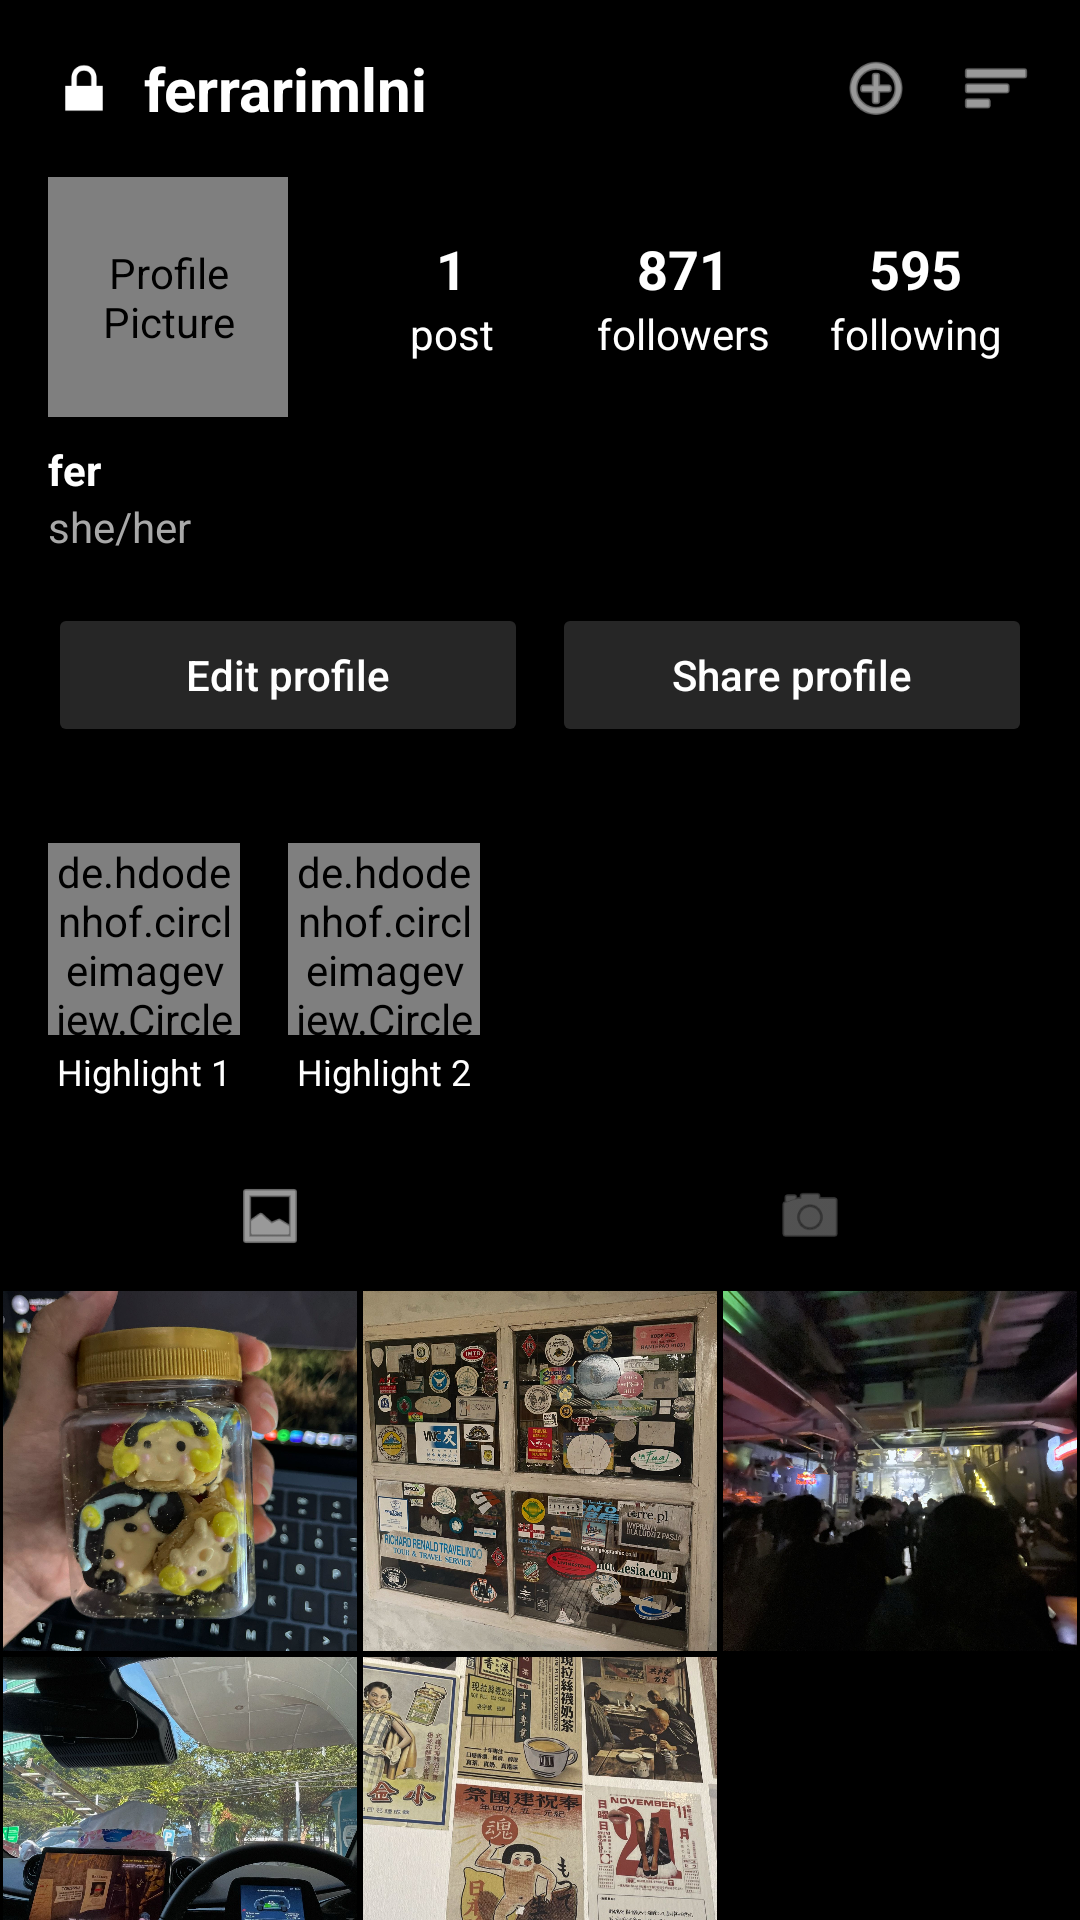

Icons on this 1080×1920 Android screen, each with the point to tap as point (x, y):
Add icon: point (876, 88)
Camera icon: point (810, 1215)
Gallery icon: point (270, 1216)
Lock icon: point (84, 88)
Sort icon: point (996, 88)
